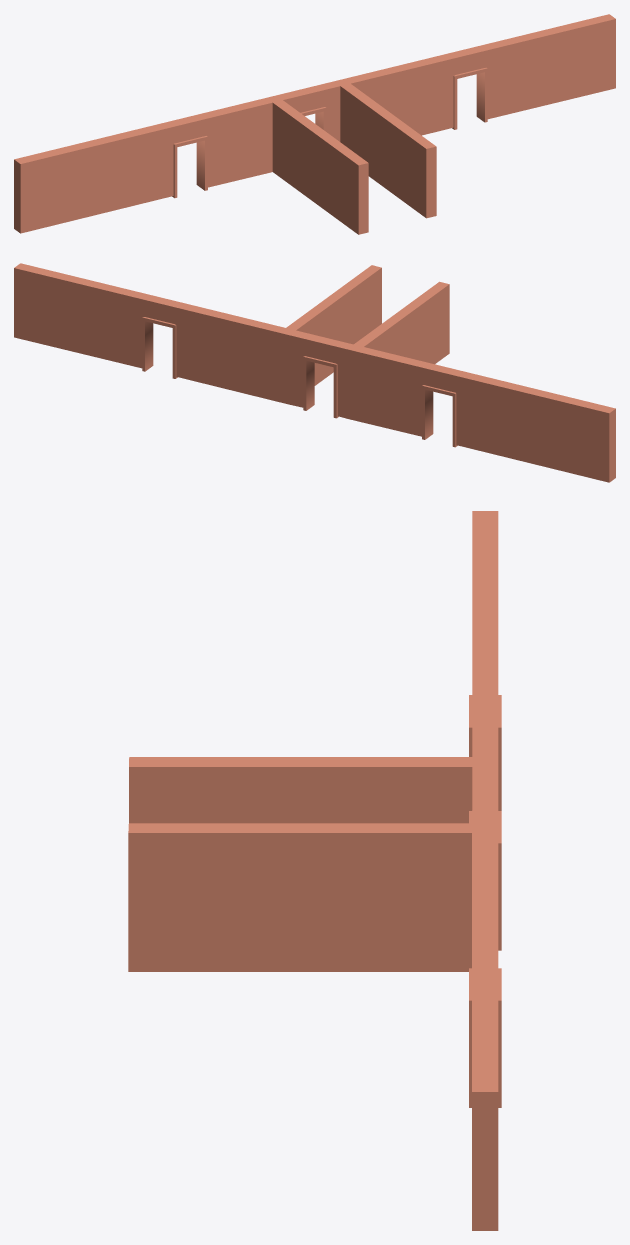
File: QuartoDLow.fbx
3 renders of one model, top to bottom at view 1: azimuth 30°, elevation 25°; view 2: azimuth 150°, elevation 25°; view 3: azimuth 270°, elevation 25°, orthographic. The views are drawn at different scales.
Visible parts, largest first — view 1: QuartosD.003; view 2: QuartosD.003; view 3: QuartosD.003.
Part boxes in pixels (x1,y1,x2,y2): QuartosD.003: [14, 14, 615, 234]; QuartosD.003: [14, 263, 615, 482]; QuartosD.003: [128, 511, 501, 1230].
Bounding box in the file's own units: 3562 × 405 × 967.
